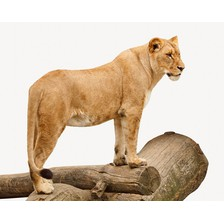lion: (16, 27, 206, 199)
